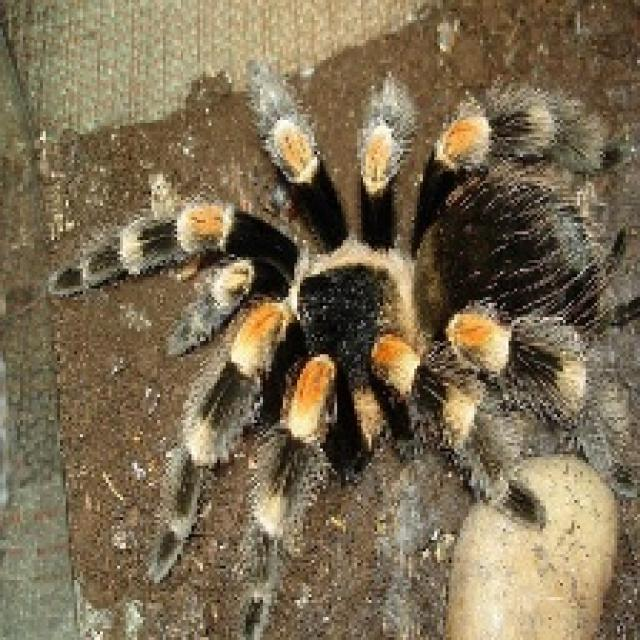Non venomous spider: (77, 35, 600, 602)
